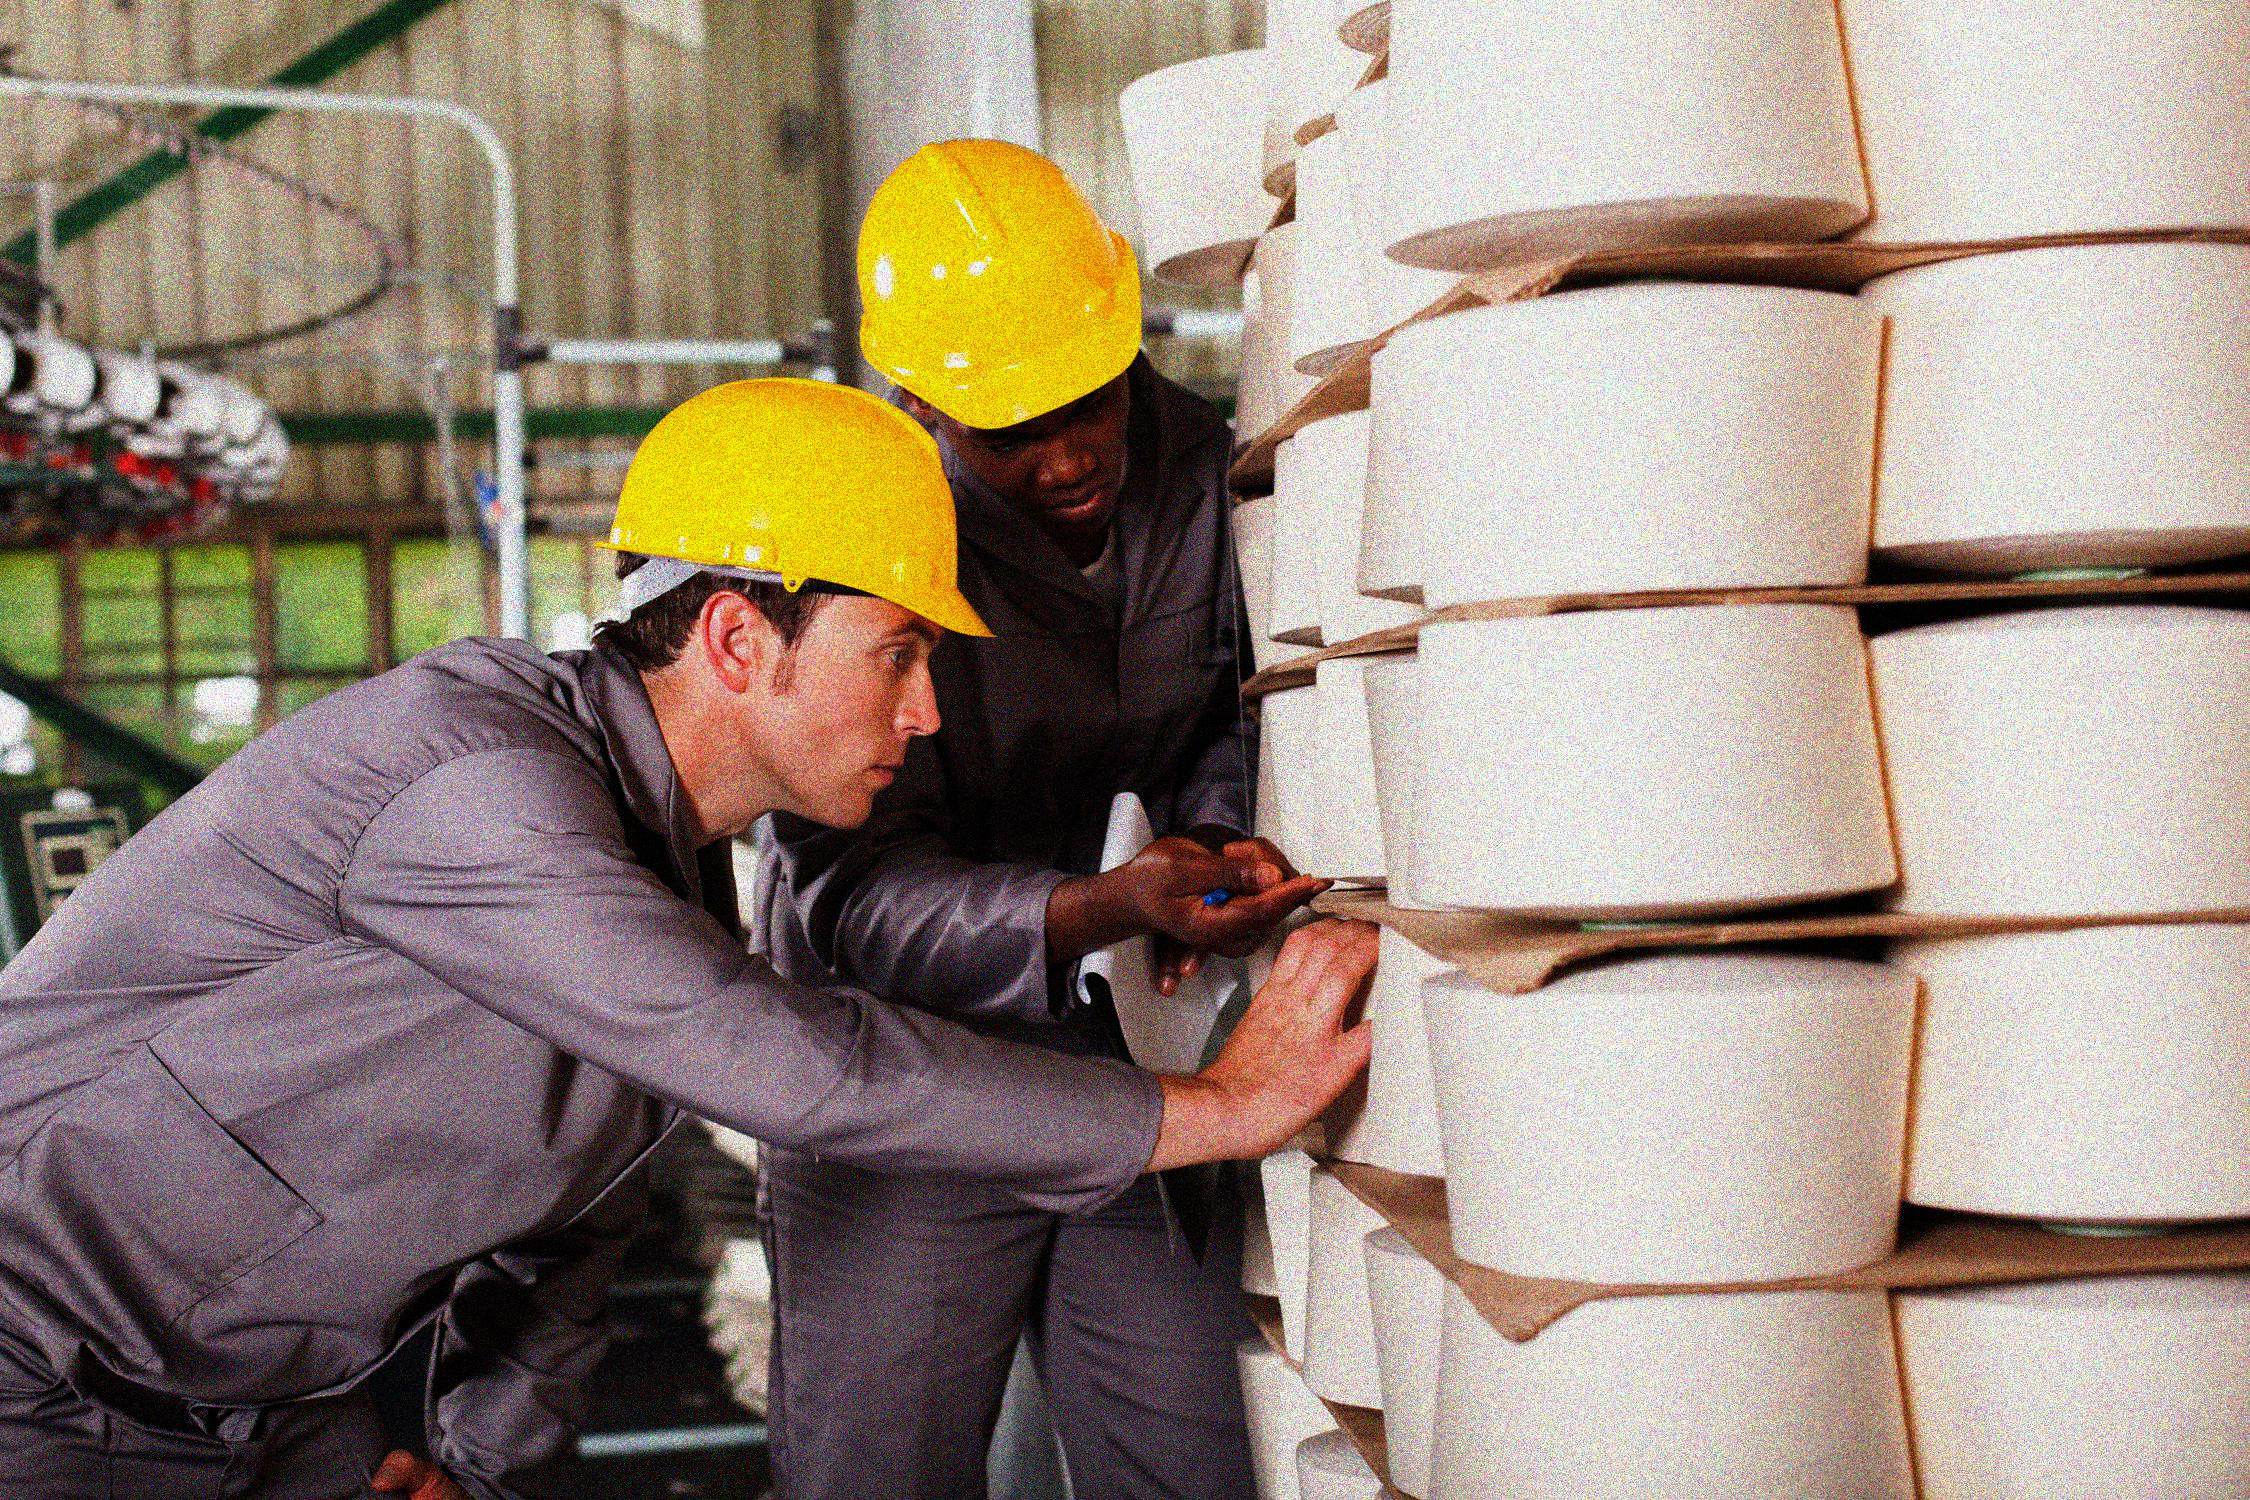helmet: (591, 368, 998, 839), (844, 136, 1155, 522)
